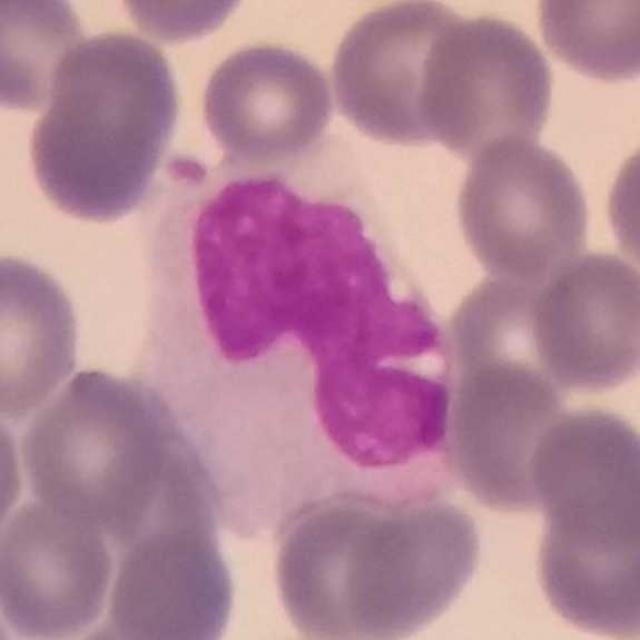Monocyte: (137, 133, 456, 526)
RBC: (22, 23, 187, 227), (15, 362, 174, 530), (324, 0, 486, 150), (332, 486, 488, 640), (436, 356, 584, 517), (267, 492, 423, 640), (414, 6, 560, 162), (443, 267, 594, 410), (451, 132, 595, 280), (526, 474, 640, 640), (196, 36, 338, 167), (0, 492, 118, 640), (526, 247, 640, 399), (524, 402, 640, 548), (104, 526, 242, 640), (0, 246, 88, 418), (0, 0, 102, 116), (531, 0, 640, 87), (107, 0, 254, 46), (599, 126, 640, 289), (0, 400, 28, 554), (54, 616, 217, 640), (0, 572, 20, 640)
